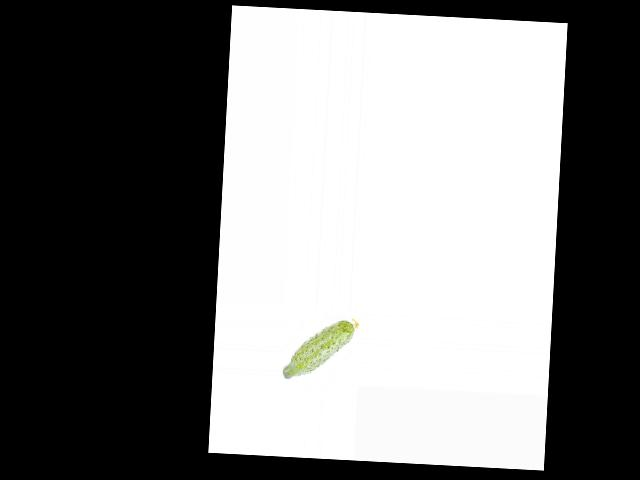cucumber: (282, 315, 359, 383)
